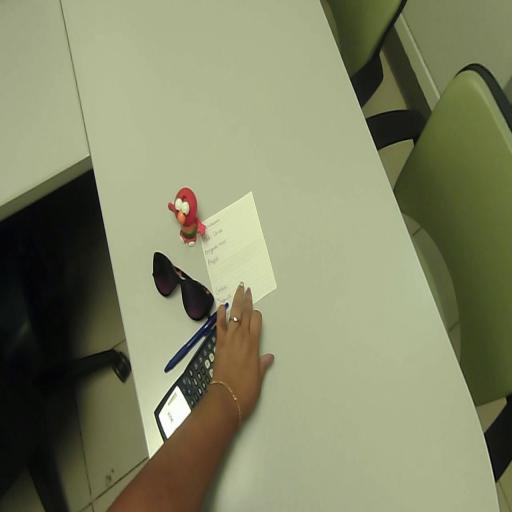pen: (165, 312, 217, 372)
